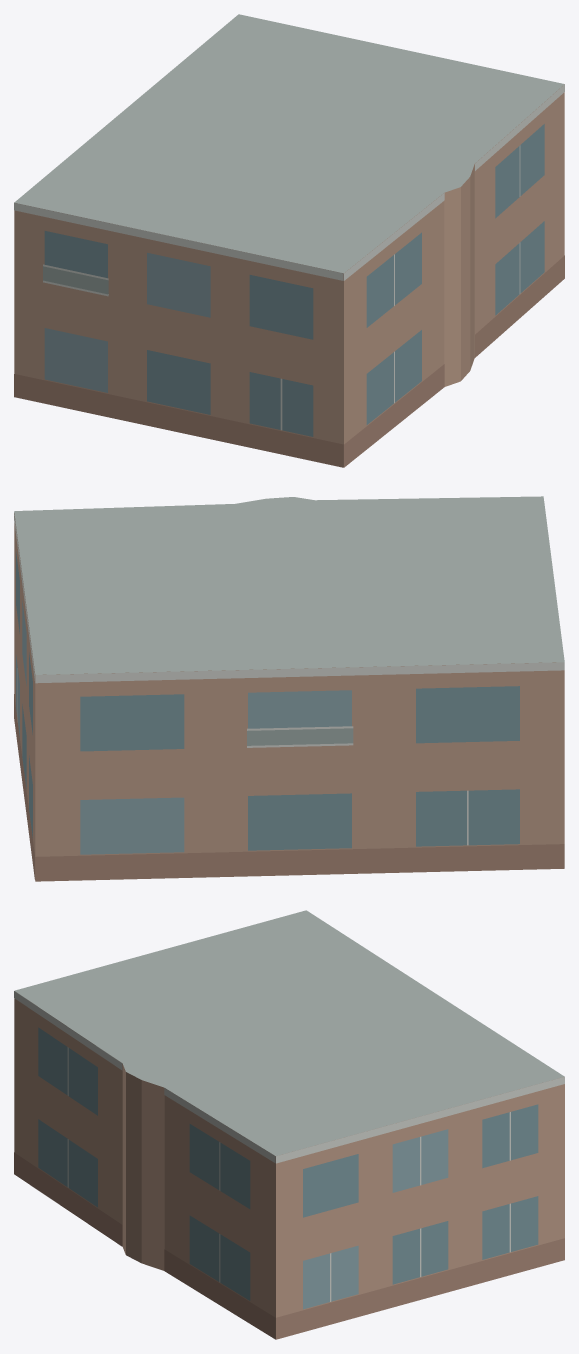
File: survey-upis-32625331.glb
The picture shows the model from 3 angles, top to bottom: view 1: azimuth 30°, elevation 25°; view 2: azimuth 150°, elevation 25°; view 3: azimuth 270°, elevation 25°; orthographic projection. The views are drawn at different scales.
Visible parts, largest first — view 1: survey-upis-32625331.tmp; view 2: survey-upis-32625331.tmp; view 3: survey-upis-32625331.tmp.
Part boxes in pixels (box(x1,y1,x2,y2)): survey-upis-32625331.tmp: box(14, 14, 564, 467); survey-upis-32625331.tmp: box(14, 496, 564, 881); survey-upis-32625331.tmp: box(14, 910, 564, 1339).
Size of the model in its own units: 17.56 by 6.1 by 16.61.
